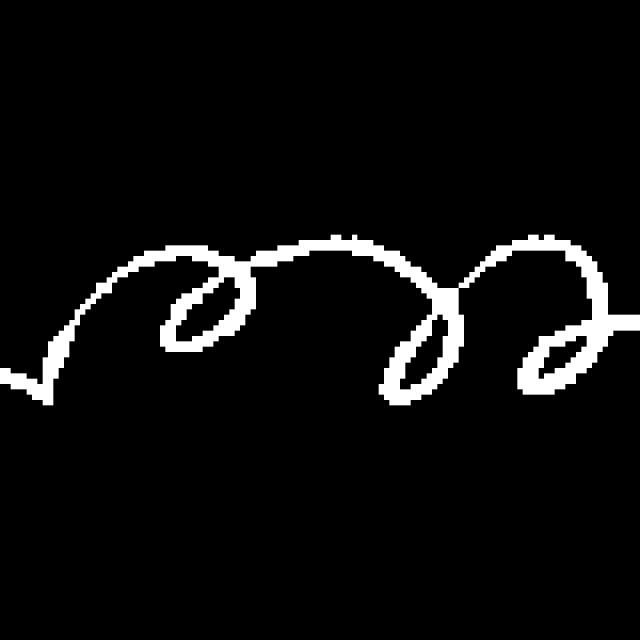inductor: (28, 180, 622, 463)
